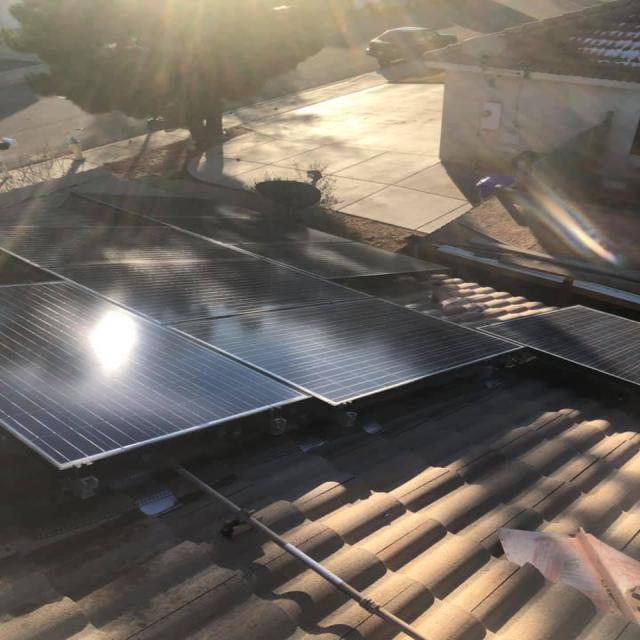clean-solar-panel: (2, 170, 638, 469)
